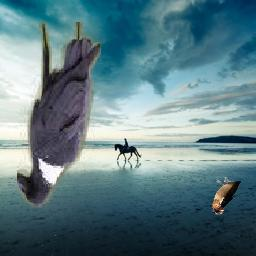Crow: (17, 22, 101, 208)
Swallow: (213, 177, 242, 215)
